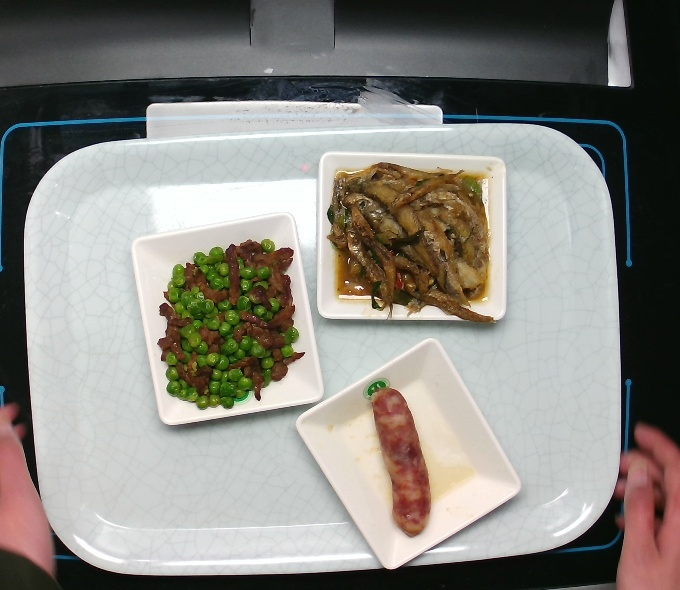wcq-CanDouNiuRou: (152, 238, 308, 413)
wcq-XiangChang: (369, 384, 436, 543)
wcq-XiaoJiYu: (323, 158, 493, 330)
